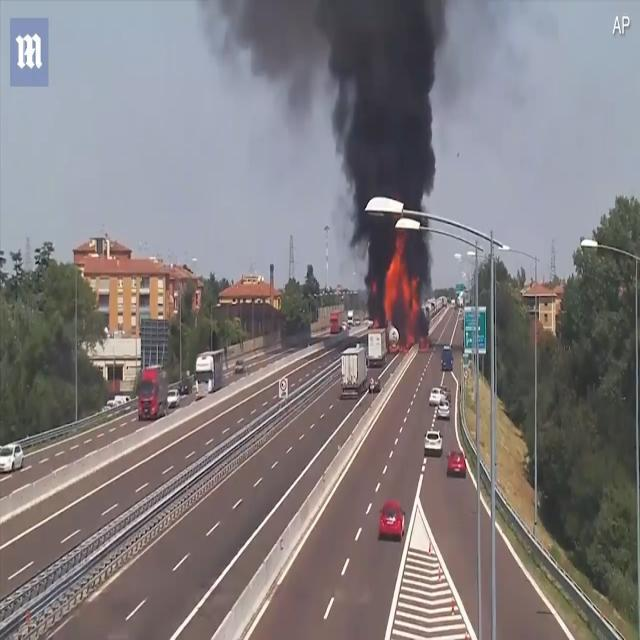Fire: (384, 237, 420, 346)
Smoke: (222, 0, 448, 336)
